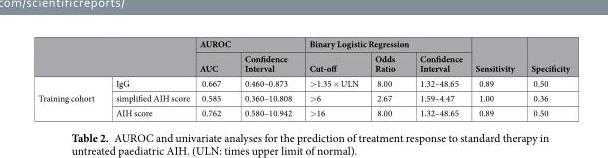table: (37, 37, 569, 118)
table column: (104, 37, 193, 118), (232, 37, 300, 118), (37, 37, 104, 118), (300, 37, 365, 118), (406, 37, 468, 118), (468, 37, 522, 118), (522, 37, 569, 118), (365, 37, 406, 118), (193, 37, 232, 118)
table column header: (37, 37, 569, 75)
table row: (37, 50, 569, 75), (37, 75, 569, 90), (37, 90, 569, 105), (37, 37, 569, 50), (37, 105, 569, 118)
table spanning cell: (37, 75, 104, 118), (300, 37, 468, 50), (468, 37, 522, 75), (522, 37, 569, 75), (193, 37, 300, 50)
